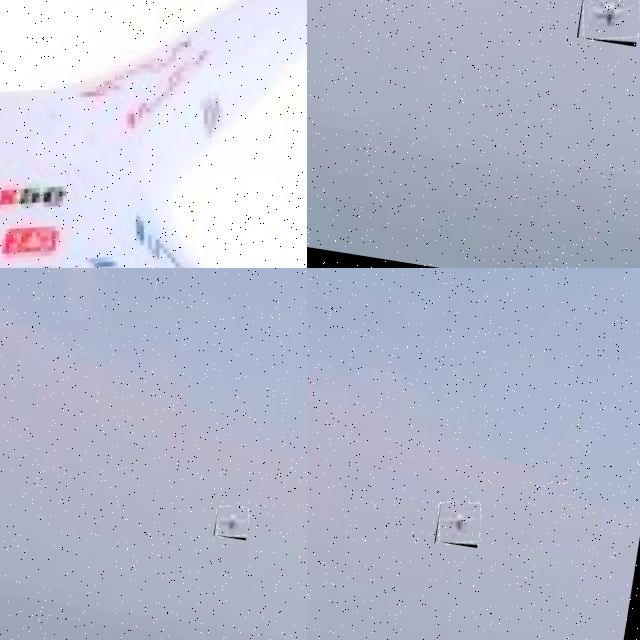0: (577, 0, 640, 46), (434, 499, 484, 548), (213, 504, 250, 540)
drone: (0, 0, 307, 268)
